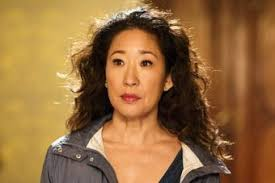asian_female: (83, 19, 191, 127)
